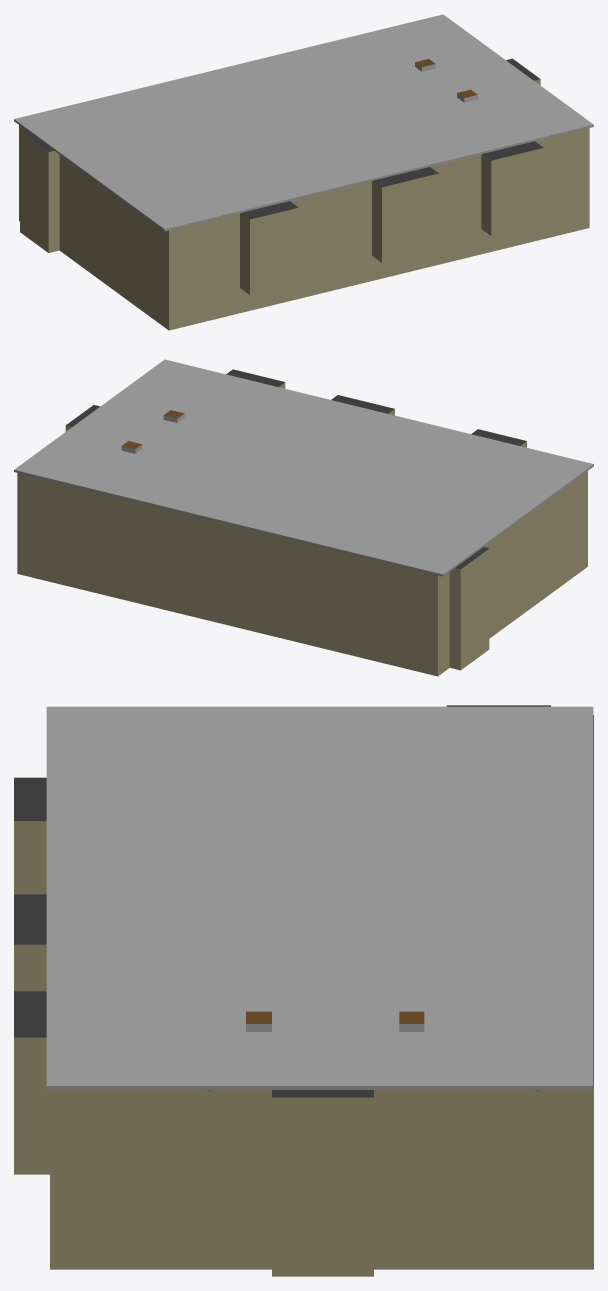
The picture shows the model from 3 angles, top to bottom: view 1: azimuth 30°, elevation 25°; view 2: azimuth 150°, elevation 25°; view 3: azimuth 270°, elevation 25°; orthographic projection. The views are drawn at different scales.
Parts seen in each view (by area): view 1: Куб.078, Куб; view 2: Куб.078, Куб; view 3: Куб.078, Куб.
Boxes of the visible parts, <box> form: Куб.078: <box>14,14,593,231</box>; Куб: <box>19,58,589,330</box>; Куб.078: <box>14,359,593,576</box>; Куб: <box>17,369,587,676</box>; Куб.078: <box>46,706,593,1090</box>; Куб: <box>14,705,593,1276</box>.
Bounding box in the file's own units: 2343 × 543 × 1464.
